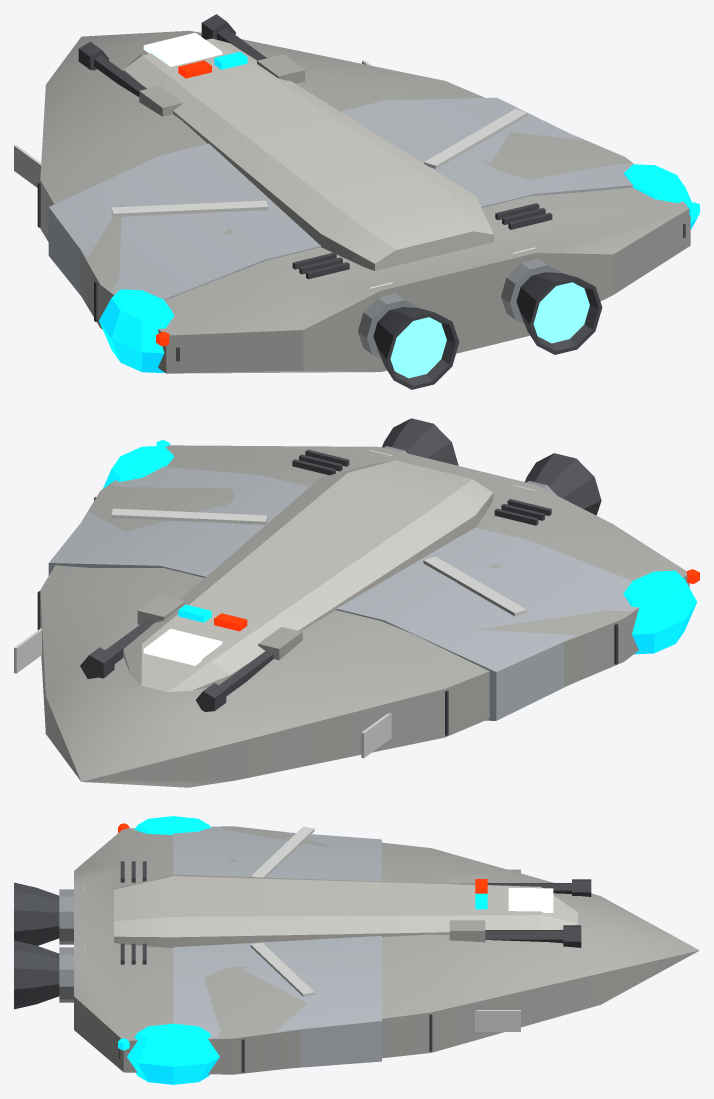
Rendered from warden.glb.
3 renders of one model, top to bottom at view 1: azimuth 30°, elevation 25°; view 2: azimuth 150°, elevation 25°; view 3: azimuth 270°, elevation 25°, orthographic. The views are drawn at different scales.
Parts seen in each view (by area): view 1: Hull; view 2: Hull; view 3: Hull.
Boxes of the visible parts, box(x1,y1,x2,y2) form: Hull: box(14, 14, 699, 389); Hull: box(14, 418, 699, 787); Hull: box(14, 816, 699, 1084).
Bounding box in the file's own units: 1.6 × 0.3687 × 2.
